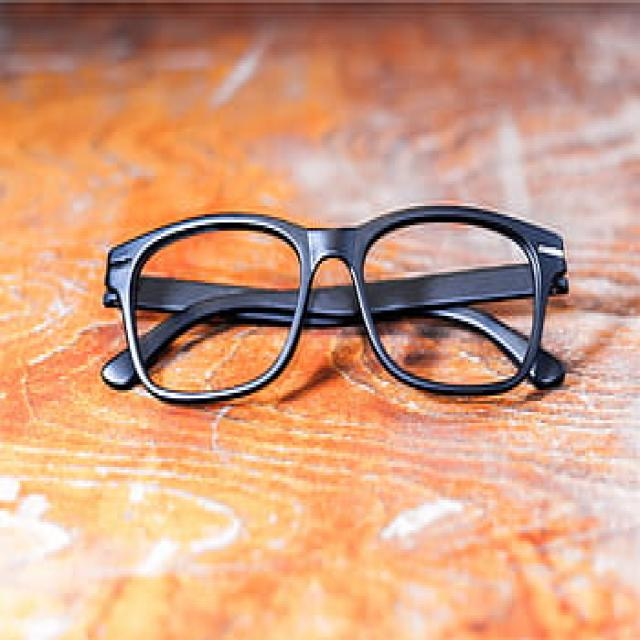glasses: (62, 192, 601, 467)
